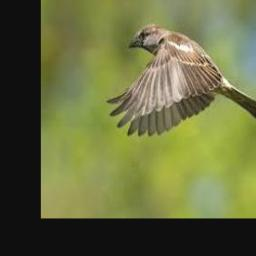Sparrow: (107, 24, 256, 135)
